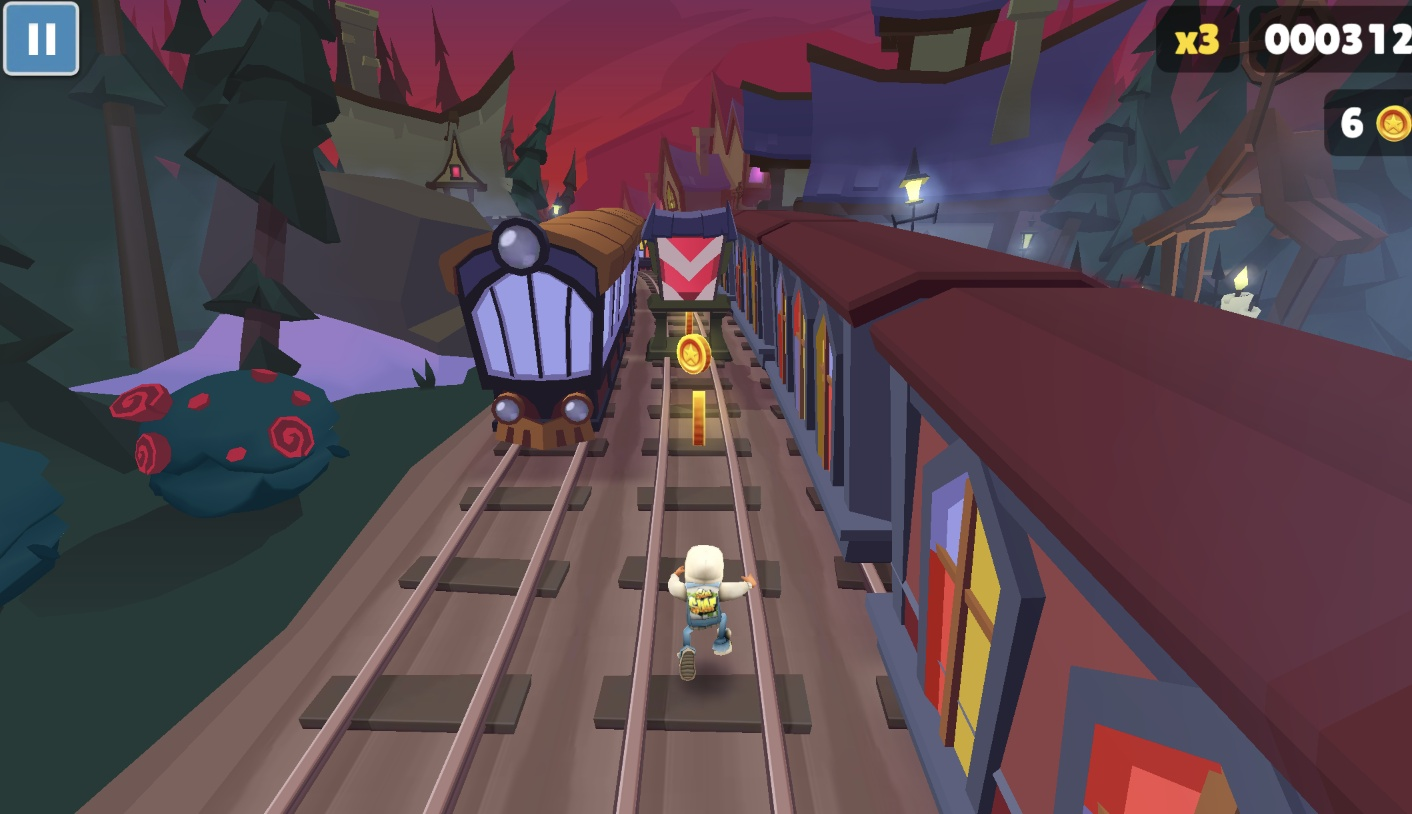overhead_barrier: (640, 216, 739, 373)
train: (724, 217, 1412, 814), (421, 215, 648, 483), (638, 244, 652, 271)
